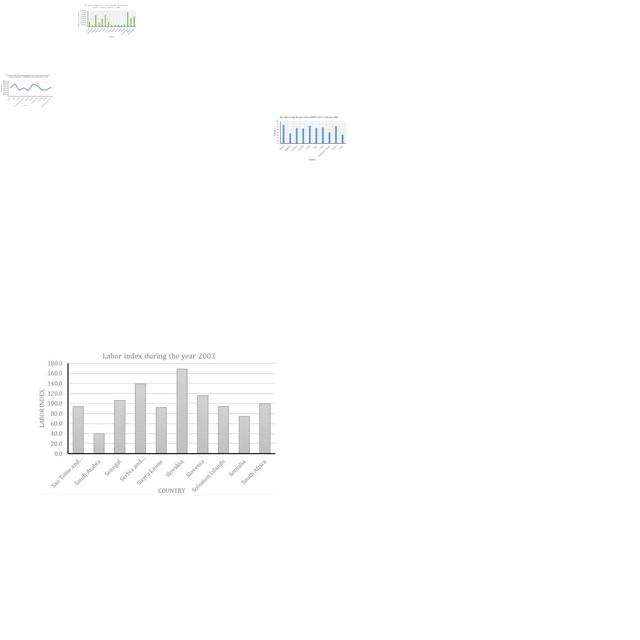Graph: (37, 349, 279, 495), (271, 115, 347, 161), (76, 3, 137, 39), (0, 74, 55, 108)
